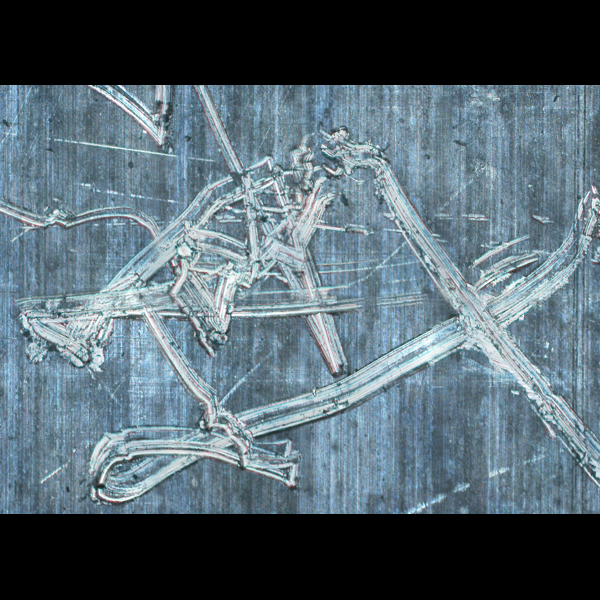d: (320, 141, 600, 461), (142, 125, 383, 367), (72, 389, 318, 507), (8, 278, 151, 382), (0, 198, 166, 264), (74, 85, 194, 164)
